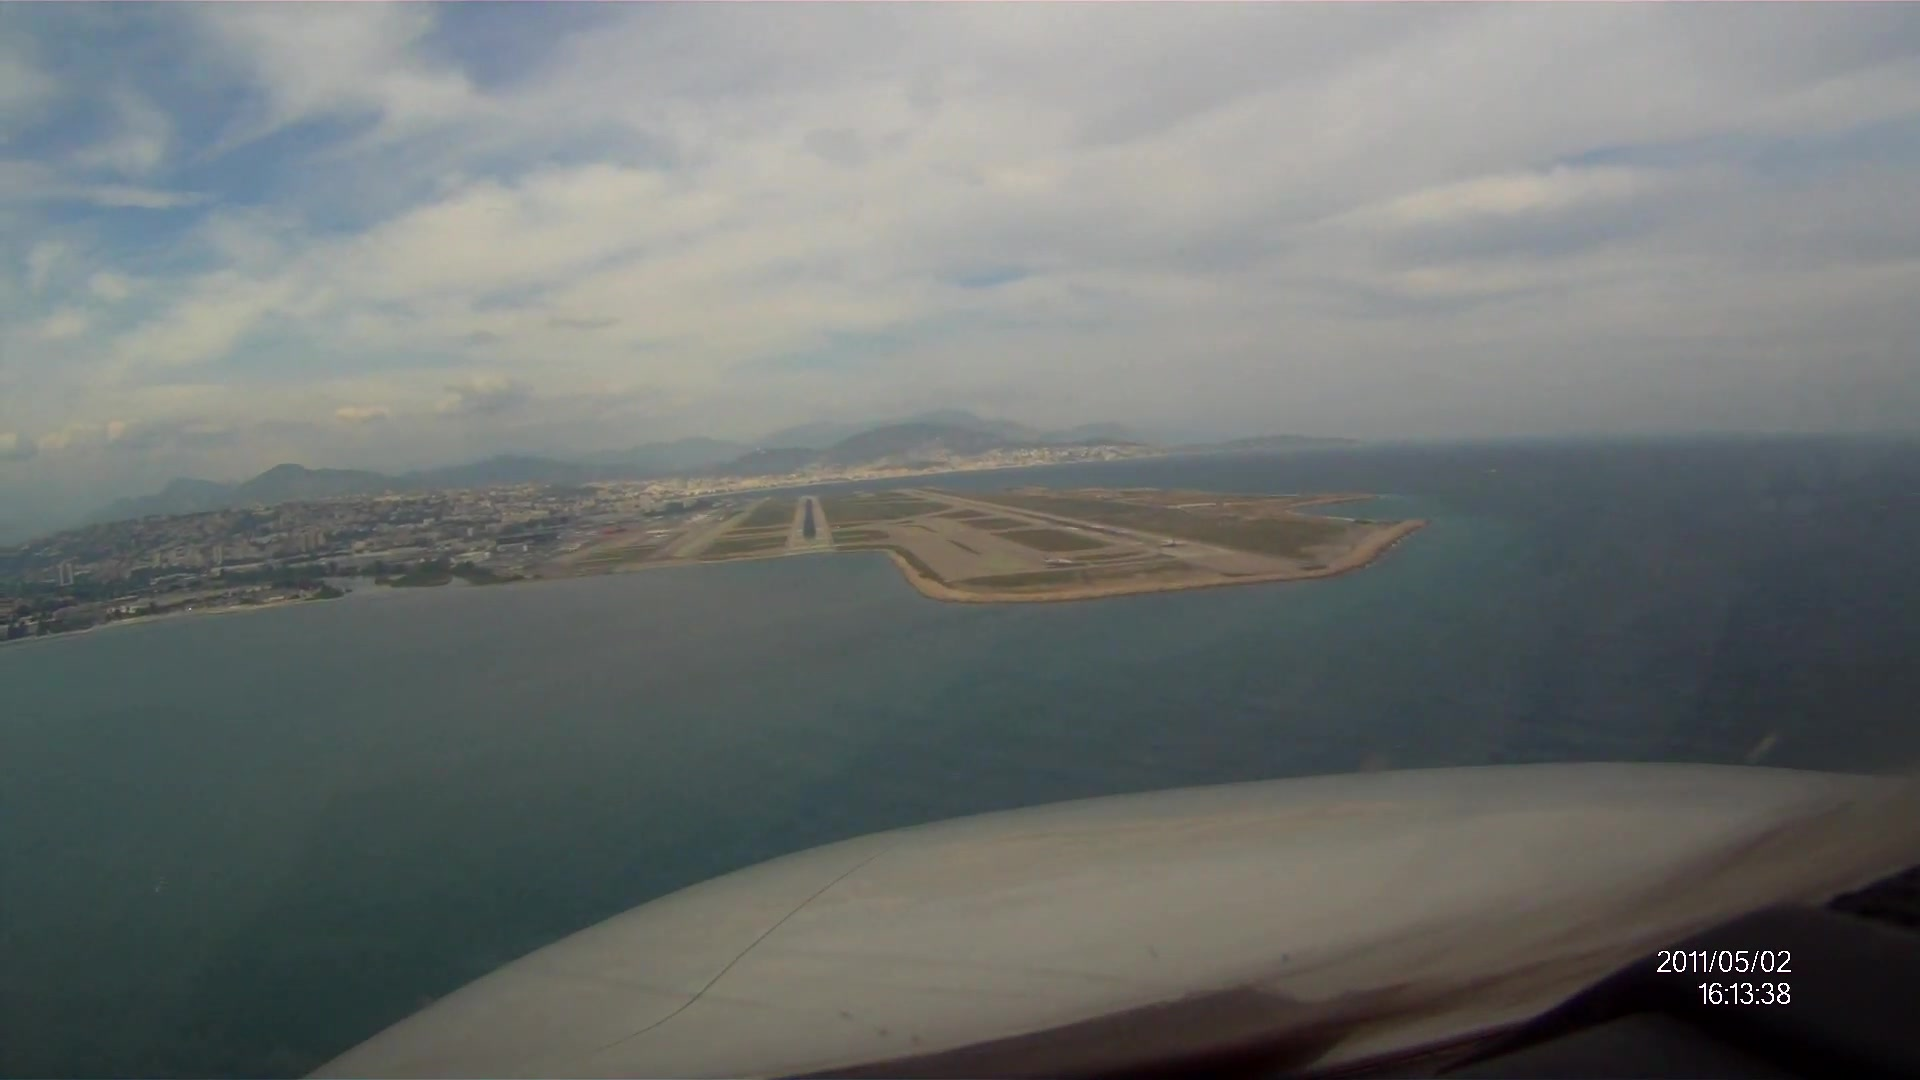runway: (783, 495, 836, 556)
